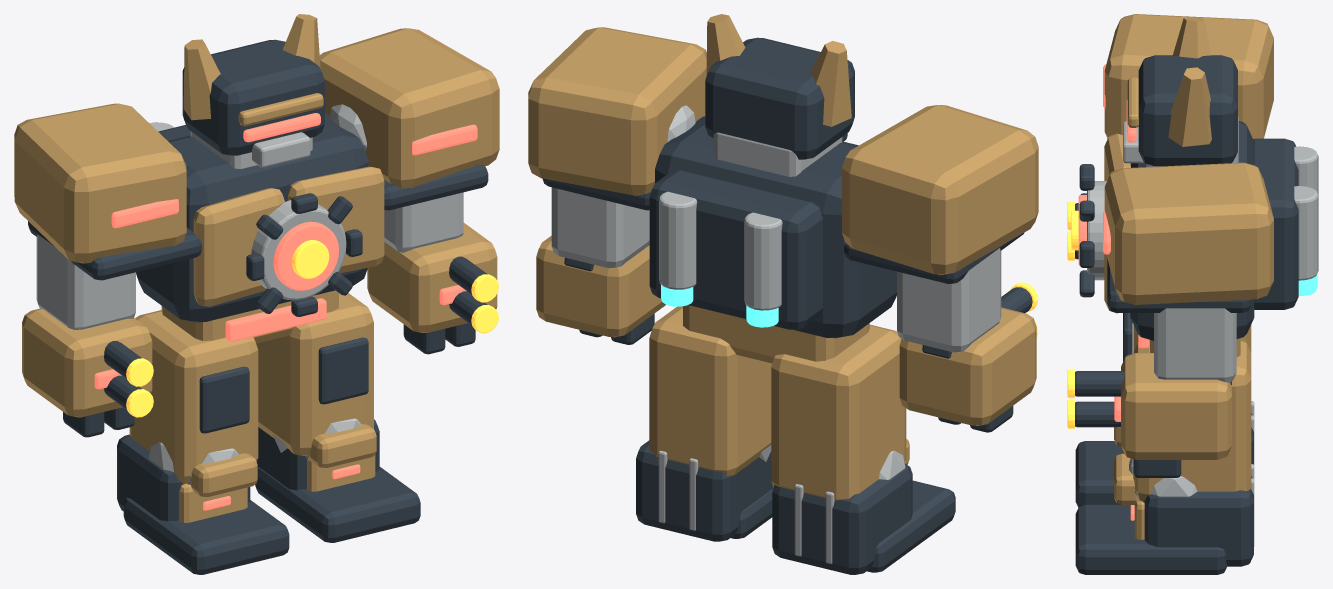
The model's file is Titan01.fbx.
3 views of the same model, side by side, from view 1: azimuth 30°, elevation 25°; view 2: azimuth 150°, elevation 25°; view 3: azimuth 270°, elevation 25° (orthographic). The views are drawn at different scales.
Parts seen in each view (by area): view 1: HombreraTitan, HombreraTitan.001, MusloTitan, TorsoCentralTitan, MusloTitan.001, CascoTitan, GuanteArmadura, GuanteArmadura.001, Puntera, Puntera.001, ArmaduraPectoralIzq, BrazoTitan (+36 smaller); view 2: HombreraTitan, HombreraTitan.001, MusloTitan, MusloTitan.001, MochilaReactor, TorsoCentralTitan, CascoTitan, GuanteArmadura, EspinillaTitan, GuanteArmadura.001, EspinillaTitan.001, BrazoTitan (+11 smaller); view 3: HombreraTitan.001, HombreraTitan, GuanteArmadura.001, CascoTitan, Puntera.001, EspinillaTitan.001, BrazoTitan.001, MochilaReactor, MusloTitan.001, AletaSuperiorCasco.001, Puntera, ColumnaRefrigerante.001 (+19 smaller).
Part boxes in pixels (x1,y1,x2,y2): HombreraTitan: (14, 103, 186, 263); HombreraTitan.001: (319, 28, 499, 188); MusloTitan: (129, 310, 258, 483); TorsoCentralTitan: (136, 113, 368, 322); MusloTitan.001: (256, 293, 373, 455); CascoTitan: (182, 39, 324, 155); GuanteArmadura: (22, 308, 152, 417); GuanteArmadura.001: (367, 223, 497, 332); Puntera: (123, 497, 289, 574); Puntera.001: (255, 467, 420, 542); ArmaduraPectoralIzq: (193, 188, 284, 306); BrazoTitan: (36, 234, 135, 329); HombreraTitan: (842, 105, 1038, 274); HombreraTitan.001: (528, 27, 706, 195); MusloTitan: (771, 324, 906, 500); MusloTitan.001: (649, 306, 772, 476); MochilaReactor: (649, 170, 822, 329); TorsoCentralTitan: (655, 116, 896, 338); CascoTitan: (705, 37, 854, 159); GuanteArmadura: (899, 307, 1036, 425); EspinillaTitan: (772, 463, 912, 574); GuanteArmadura.001: (536, 236, 665, 337); EspinillaTitan.001: (636, 440, 773, 541); BrazoTitan: (897, 248, 1001, 352); HombreraTitan.001: (1104, 162, 1273, 304); HombreraTitan: (1104, 14, 1273, 138); GuanteArmadura.001: (1121, 353, 1231, 459); CascoTitan: (1138, 55, 1237, 166); Puntera.001: (1075, 504, 1227, 574); EspinillaTitan.001: (1144, 476, 1253, 566); BrazoTitan.001: (1154, 308, 1236, 382); MochilaReactor: (1251, 138, 1298, 309); MusloTitan.001: (1133, 339, 1251, 501); AletaSuperiorCasco.001: (1168, 67, 1211, 146); Puntera: (1075, 441, 1124, 507); ColumnaRefrigerante.001: (1294, 186, 1318, 280).
Bounding box in the file's own units: 501 × 532 × 253.
